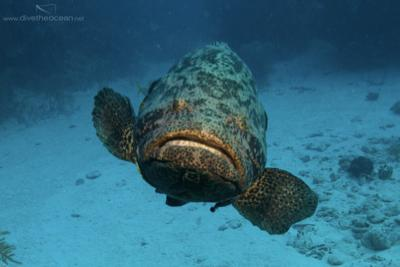Serranidae -Groupers-: (89, 37, 320, 238)
